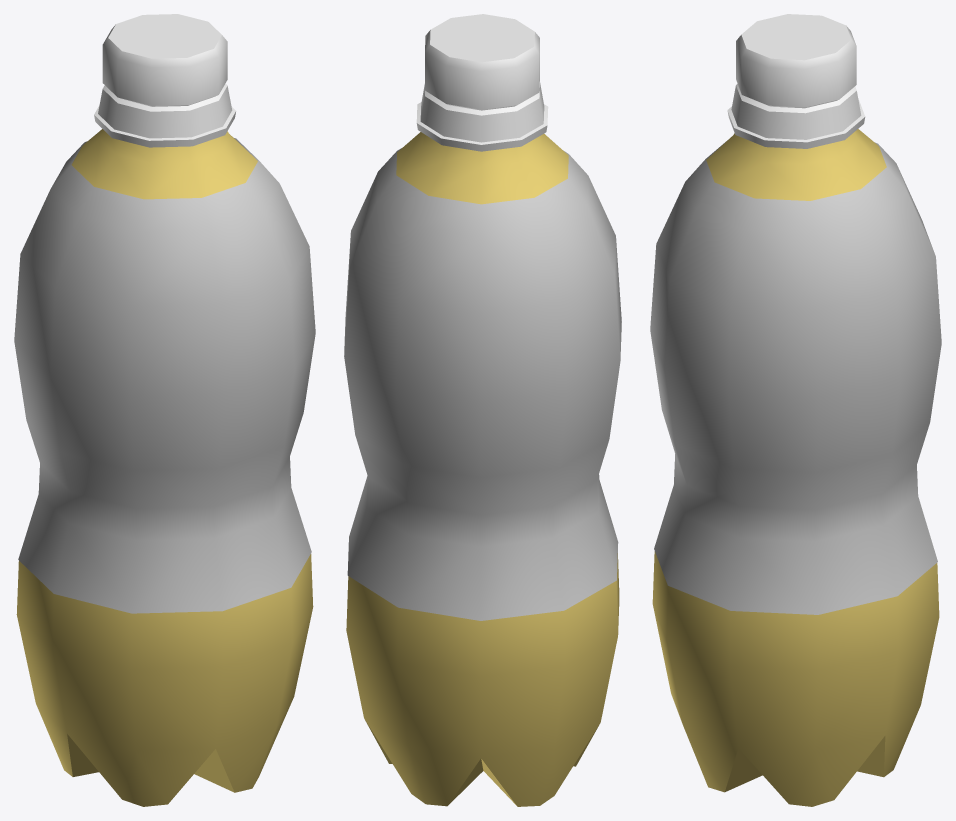
3 renders of one model, left to right at view 1: azimuth 30°, elevation 25°; view 2: azimuth 150°, elevation 25°; view 3: azimuth 270°, elevation 25°, orthographic.
Visible parts, largest first — view 1: YL0402; view 2: YL0402; view 3: YL0402.
Boxes of the visible parts, x1,y1,x2,y2 form: YL0402: (14, 14, 315, 806); YL0402: (344, 14, 621, 806); YL0402: (650, 14, 941, 806).
Bounding box in the file's own units: 7.37 × 7.41 × 20.45.
